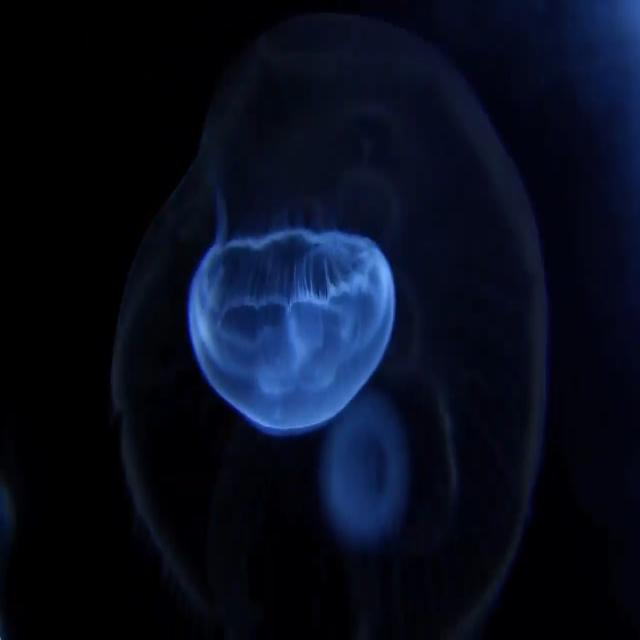Moon-jellyfish: (187, 195, 396, 435)
